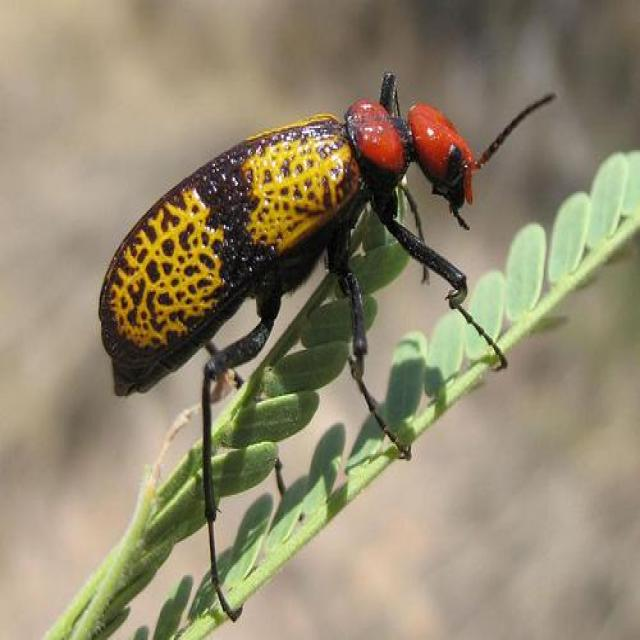BlisterBeetle-Adult-: (95, 63, 558, 603)
